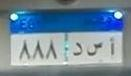8: (45, 38, 58, 62), (18, 38, 31, 62), (32, 39, 44, 61)
alif: (109, 36, 116, 59)
daal: (72, 41, 83, 60)
seen: (85, 41, 103, 59)
